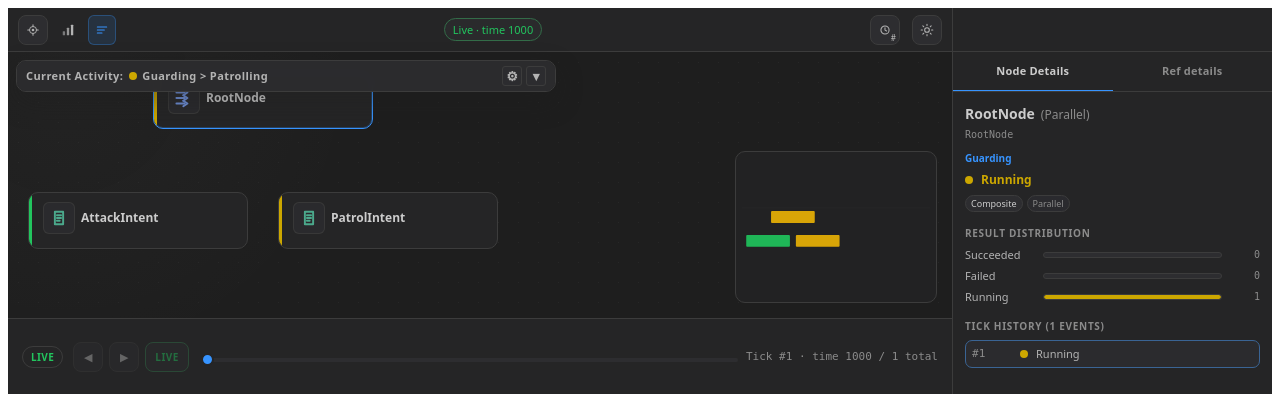
Test: BehaviourTreeDebugger time-travel percentile mode › allows collapsing and expanding the activity options menu
Click the button named "Expand current activity window".
click(536, 76)  # box [526,66,546,86]
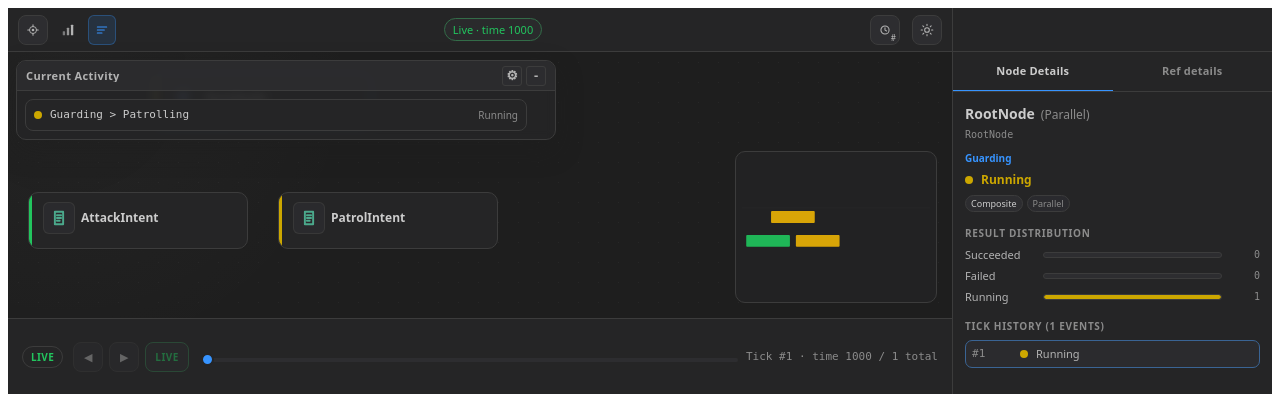
Click the button named "Show activity options menu".
click(512, 76)  # box [502,66,522,86]
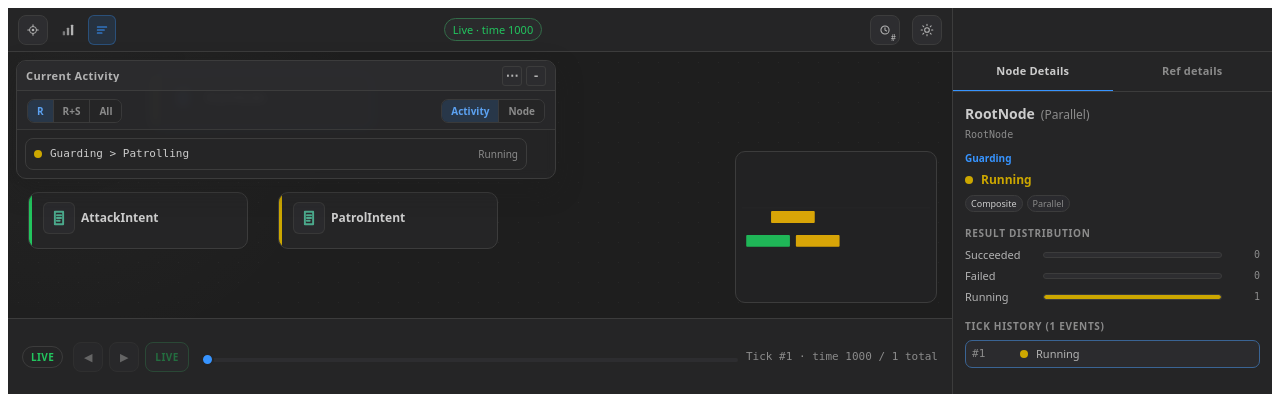
Expected: the button named "Show only running activities" is shown, [28,100,54,122]
Expected: the button with aria-label "Show activity labels" is shown, [442,100,499,122]
Click the button named "Hide activity options menu".
click(512, 76)  # box [502,66,522,86]
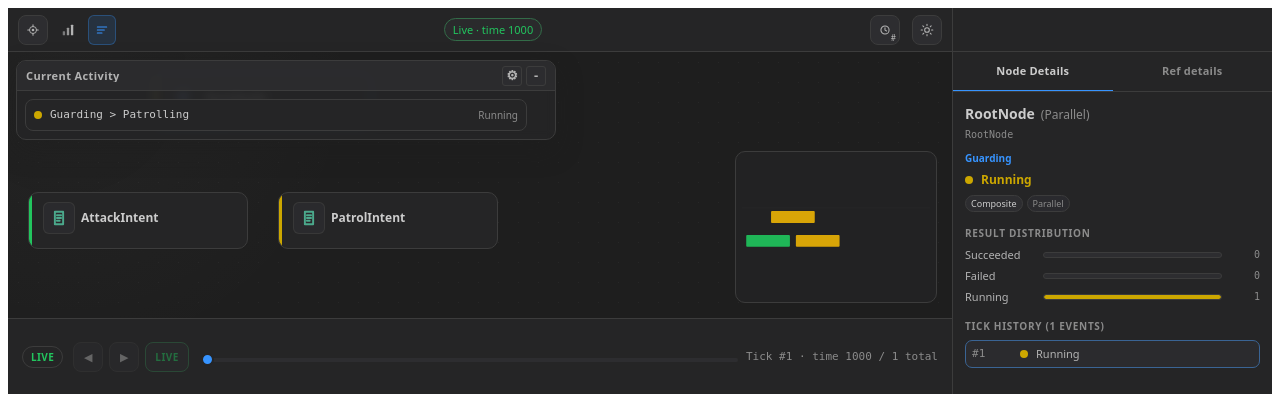
Expected: the button titled "Guarding > Patrolling" is shown, [25,99,527,131]
Click the button named "Show activity options menu".
click(512, 76)  # box [502,66,522,86]
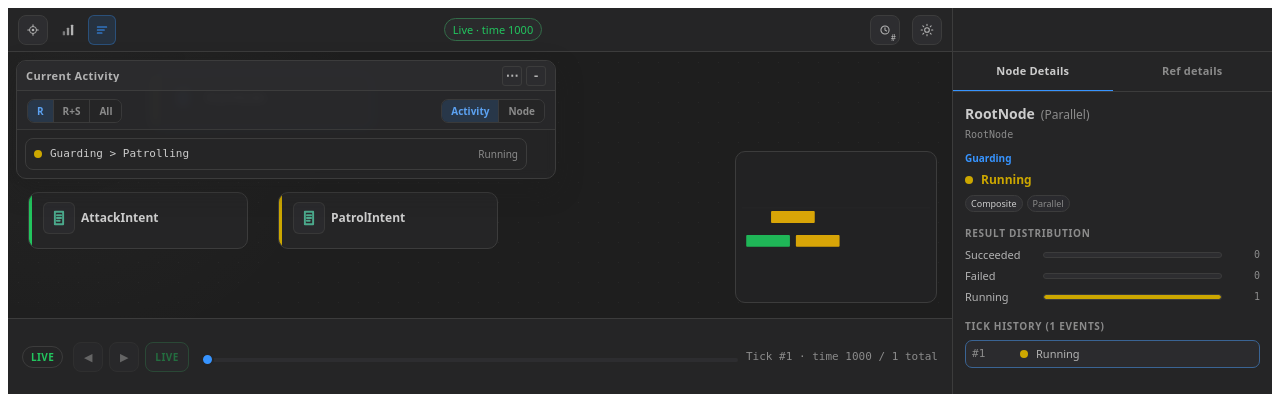
Expected: the button named "Show only running activities" is shown, [28,100,54,122]
Expected: the button with aria-label "Show activity labels" is shown, [442,100,499,122]
